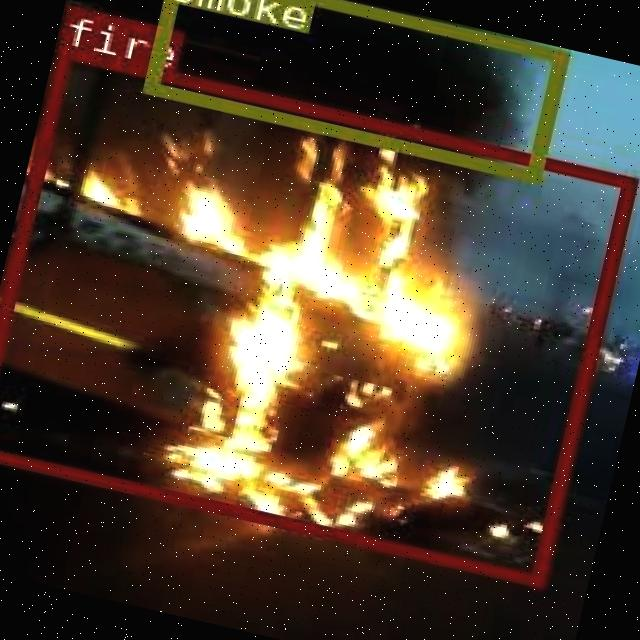fire: (0, 42, 634, 585)
smoke: (141, 0, 568, 179)
